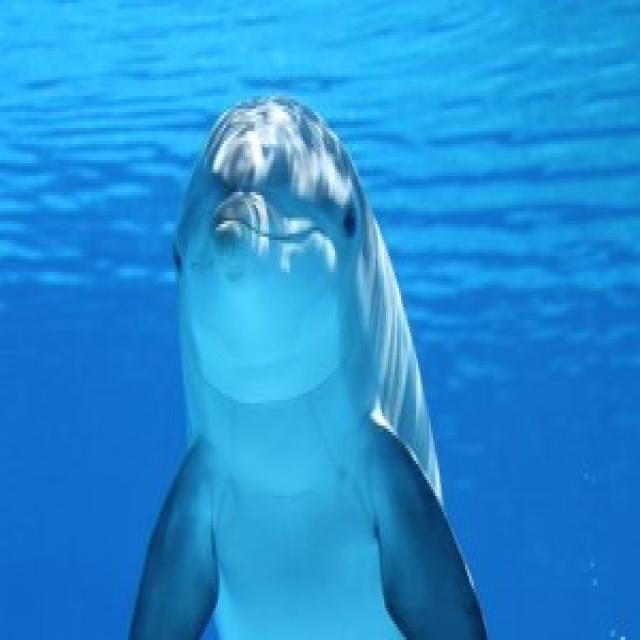Dolphin: (121, 89, 493, 640)
